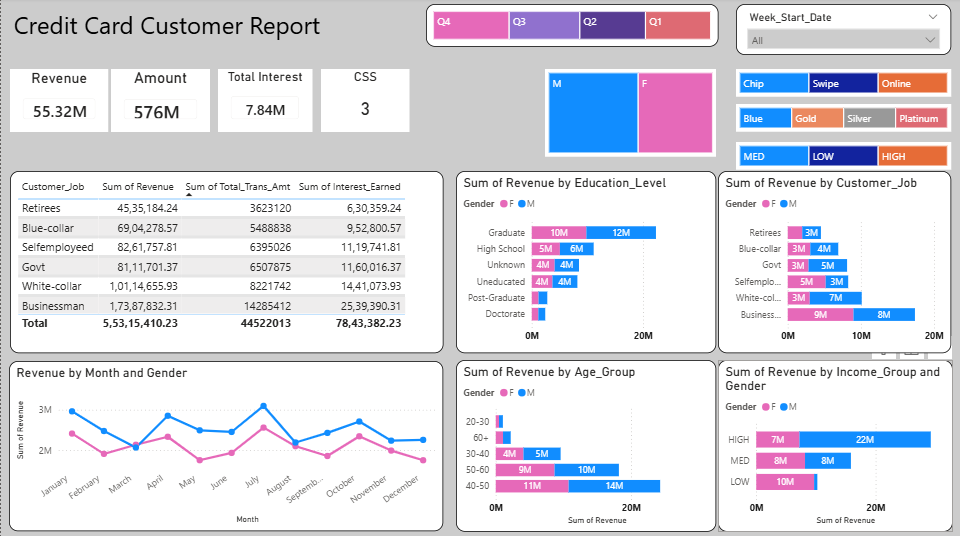

Layout of this report page (visuals, bound fields, positions):
{"tool":"powerbi","page":{"name":"Customer","canvas":[1280,720],"ordinal":1},"visuals":[{"type":"textbox","box":[11.4,8.6,460.9,57.1],"z":0},{"type":"barChart","fields":{"Y":["Sum(credit_card.Revenue)"],"Category":["customer.Income_Group"],"Series":["customer.Gender"]},"box":[956.4,482.7,312.8,228.8],"z":1},{"type":"tableEx","fields":{"Values":["customer.Customer_Job","Sum(credit_card.Revenue)","Sum(credit_card.Total_Trans_Amt)","Sum(credit_card.Interest_Earned)"]},"box":[11.4,231.2,577.9,242.6],"z":2},{"type":"cardVisual","title":"Revenue","fields":{"Data":["Sum(credit_card.Revenue)"]},"box":[11.4,94.2,131.3,84.2],"z":3},{"type":"cardVisual","title":"Amount","fields":{"Data":["Sum(customer.Income)"]},"box":[146.6,94.7,132.3,84],"z":4},{"type":"cardVisual","title":"Total Interest","fields":{"Data":["Sum(credit_card.Interest_Earned)"]},"box":[289.7,94.2,125.6,84.2],"z":5},{"type":"card","title":"CSS","fields":{"Values":["Avg(customer.Cust_Satisfaction_Score)"]},"box":[426.7,94.2,118.4,84.2],"z":6},{"type":"slicer","fields":{"Values":["credit_card.Week_Start_Date"]},"box":[980.3,8.6,286.8,68.5],"z":7},{"type":"treemap","fields":{"Group":["credit_card.Qtr"],"Values":["Max(credit_card.Client_Num)"]},"box":[566.5,8.6,389.6,57.1],"z":8},{"type":"treemap","fields":{"Group":["credit_card.Card_Category"],"Values":["Max(credit_card.Client_Num)"]},"box":[980.3,141.3,286.8,37.1],"z":10},{"type":"treemap","fields":{"Group":["customer.Income_Group"],"Values":["Max(credit_card.Client_Num)"]},"box":[980.3,192.6,286.8,37.1],"z":11},{"type":"lineChart","title":"Revenue by Month and Gender","fields":{"Category":["credit_card.Week_Start_Date.Variation.Date Hierarchy.Month","credit_card.Week_Start_Date.Variation.Date Hierarchy.Day"],"Y":["Sum(credit_card.Revenue)"],"Series":["customer.Gender"]},"box":[10.7,484.5,579.2,227],"z":12},{"type":"treemap","fields":{"Group":["customer.Gender"],"Values":["Sum(credit_card.Revenue)"]},"box":[724.9,94.2,228.3,117],"z":13},{"type":"barChart","title":"Sum of Revenue by Age_Group","fields":{"Y":["Sum(credit_card.Revenue)"],"Category":["customer.Age_Group"],"Series":["customer.Gender"]},"box":[606,482.7,346.8,228.8],"z":14},{"type":"barChart","title":"Sum of Revenue by Customer_Job ","fields":{"Y":["Sum(credit_card.Revenue)"],"Category":["customer.Customer_Job"],"Series":["customer.Gender"]},"box":[956.4,230.6,311.1,243.1],"z":15},{"type":"barChart","title":"Sum of Revenue by Education_Level ","fields":{"Y":["Sum(credit_card.Revenue)"],"Category":["customer.Education_Level"],"Series":["customer.Gender"]},"box":[606.5,231.2,346.8,242.6],"z":16},{"type":"treemap","fields":{"Values":["Max(credit_card.Client_Num)"],"Group":["credit_card.Use Chip"]},"box":[980.3,94.2,286.8,37.1],"z":17}]}

Visuals, with their boxes in screenshot pixels (x1, y1, x2, y2), scaled from the page's 1280x720 canvas onto the 960x536 screenshot:
textbox: <bbox>9, 6, 354, 49</bbox>
barChart - Sum(credit_card.Revenue) x customer.Income_Group: <bbox>717, 359, 952, 530</bbox>
tableEx - customer.Customer_Job x Sum(credit_card.Revenue): <bbox>9, 172, 442, 353</bbox>
"Revenue" cardVisual: <bbox>9, 70, 107, 133</bbox>
"Amount" cardVisual: <bbox>110, 70, 209, 133</bbox>
"Total Interest" cardVisual: <bbox>217, 70, 311, 133</bbox>
"CSS" card: <bbox>320, 70, 409, 133</bbox>
slicer - credit_card.Week_Start_Date: <bbox>735, 6, 950, 57</bbox>
treemap - credit_card.Qtr x Max(credit_card.Client_Num): <bbox>425, 6, 717, 49</bbox>
treemap - credit_card.Card_Category x Max(credit_card.Client_Num): <bbox>735, 105, 950, 133</bbox>
treemap - customer.Income_Group x Max(credit_card.Client_Num): <bbox>735, 143, 950, 171</bbox>
"Revenue by Month and Gender" lineChart: <bbox>8, 361, 442, 530</bbox>
treemap - customer.Gender x Sum(credit_card.Revenue): <bbox>544, 70, 715, 157</bbox>
"Sum of Revenue by Age_Group" barChart: <bbox>454, 359, 715, 530</bbox>
"Sum of Revenue by Customer_Job " barChart: <bbox>717, 172, 951, 353</bbox>
"Sum of Revenue by Education_Level " barChart: <bbox>455, 172, 715, 353</bbox>
treemap - Max(credit_card.Client_Num) x credit_card.Use Chip: <bbox>735, 70, 950, 98</bbox>
